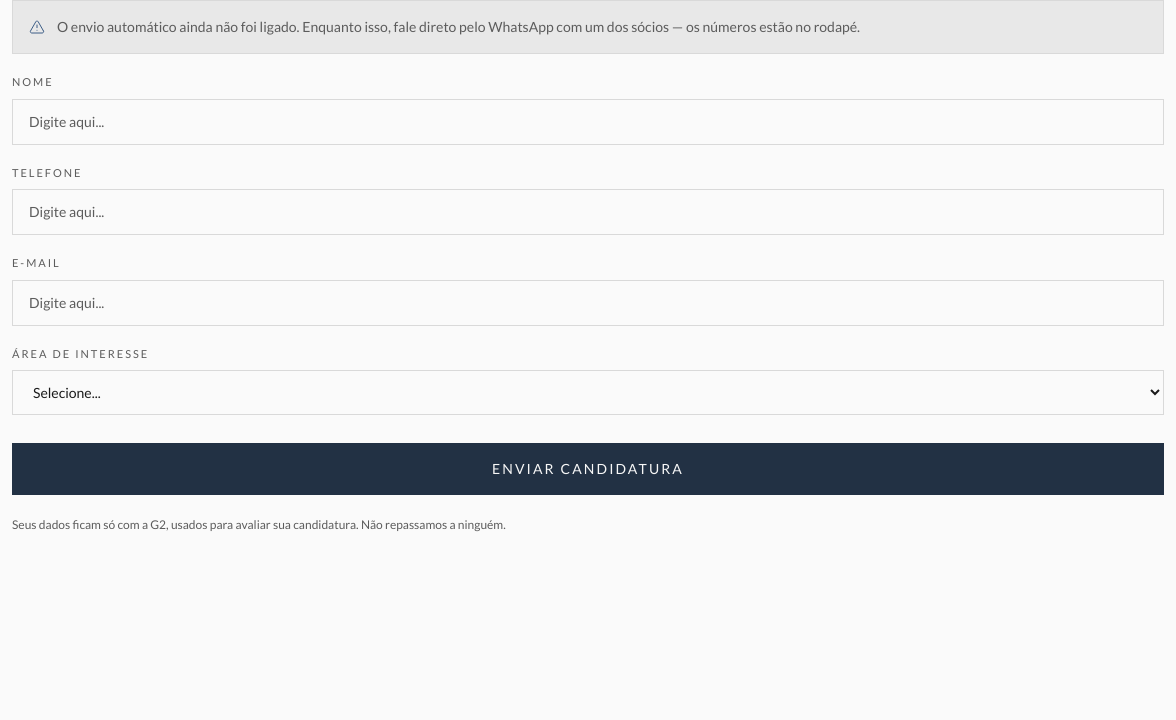
Scenario: formulário de candidatura › não envia vazio e diz o que falta, incluindo a área
Click the button "Enviar candidatura" at (588, 469), box [12,443,1164,495]
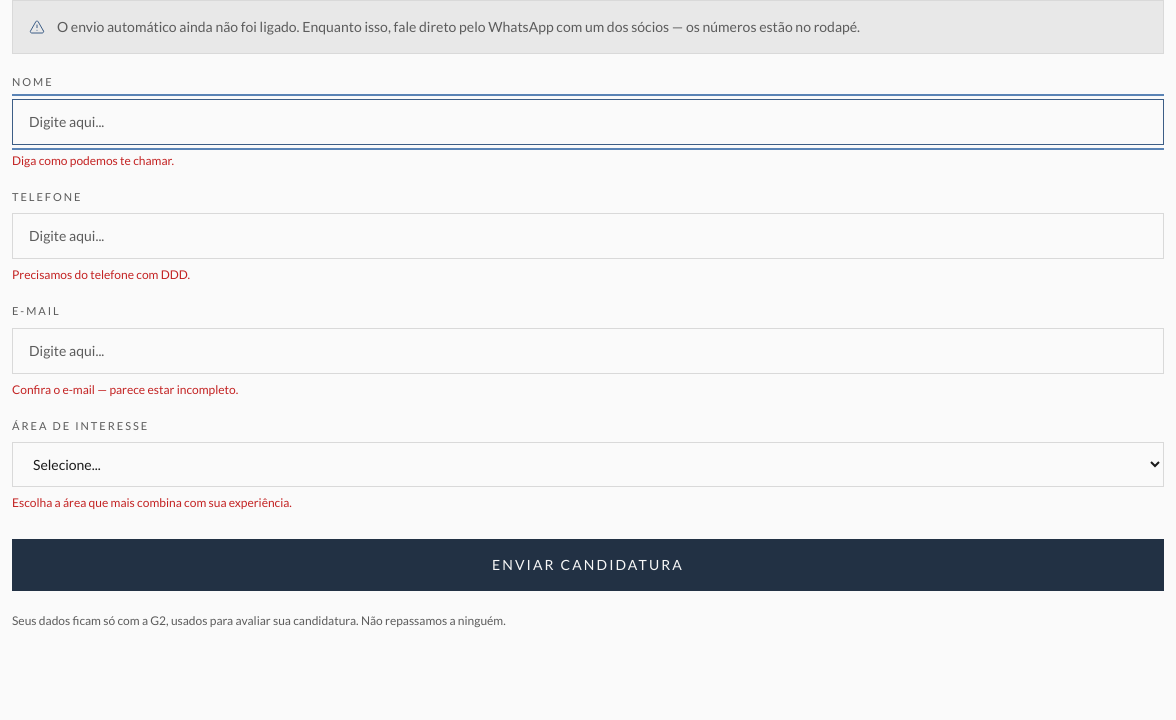
Expected: the text "Diga como podemos te chamar." is shown, [12,152,174,168]
Expected: the text "Precisamos do telefone com DDD." is shown, [12,267,190,282]
Expected: the text "Confira o e-mail — parece estar incompleto." is shown, [12,382,238,396]
